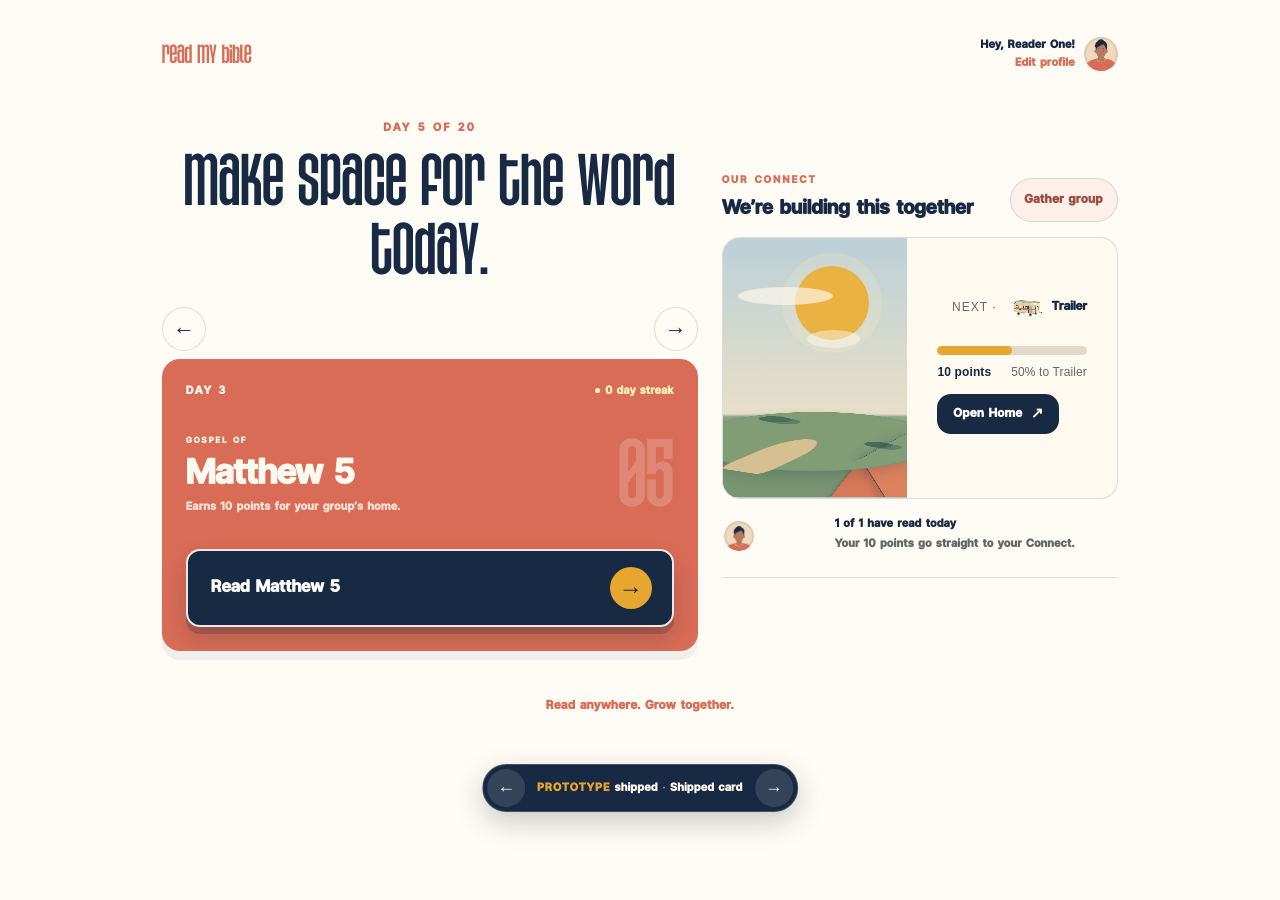
TodayScreen wires the same unlock into its own Home › unlocks there too from a real completed assignment
The width and height of the screenshot is (1280, 900).
Click the button "Open Home ↗" at x=998, y=414, box [938,394,1059,434]
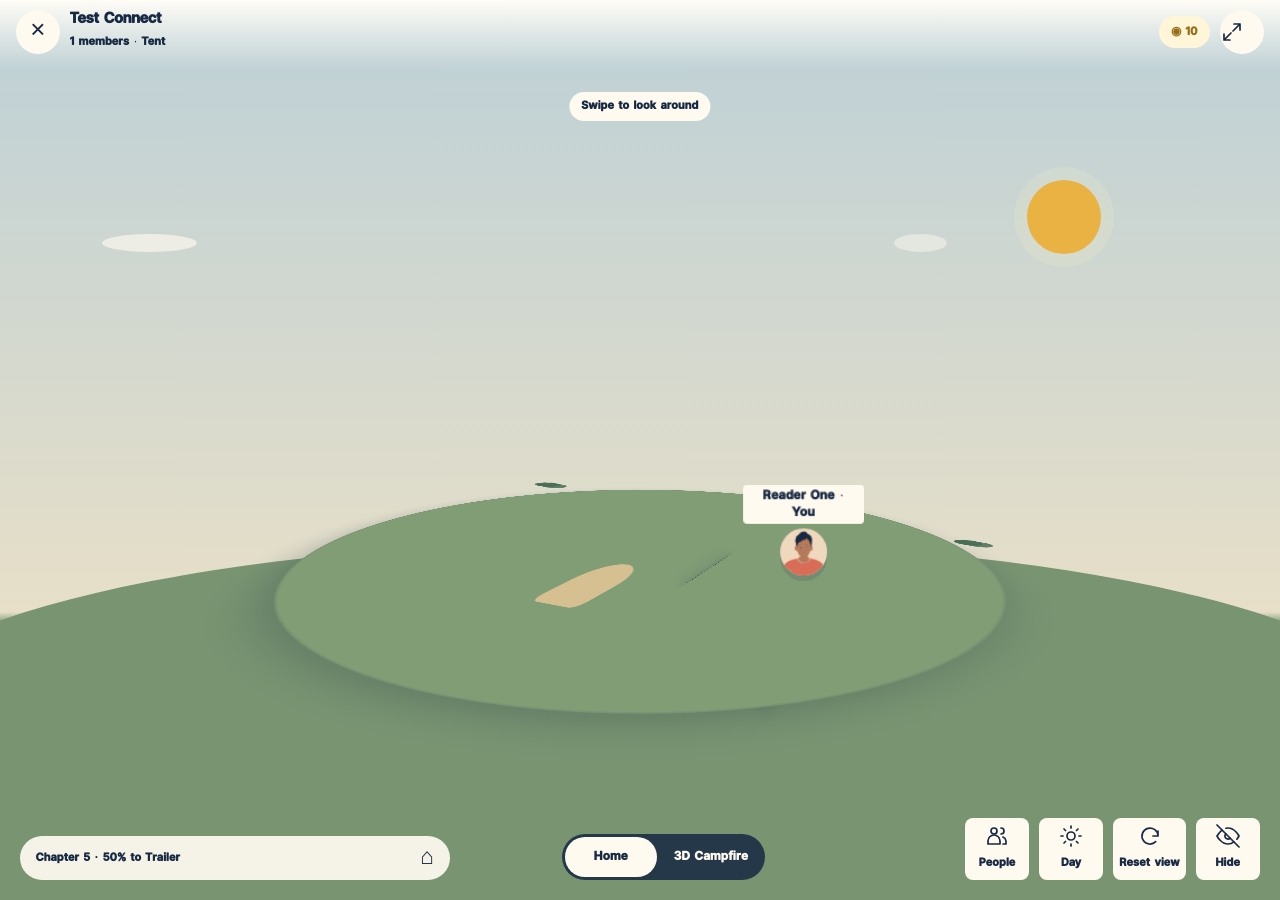
Expected: the button "3D Campfire" is shown, [660,837,762,877]
